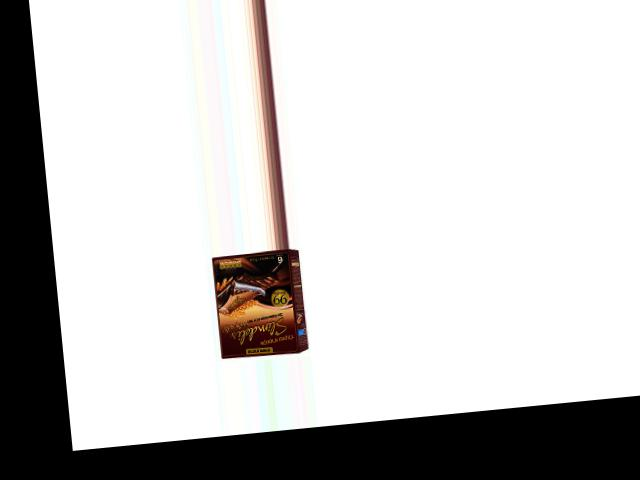chocolate: (202, 247, 314, 362)
